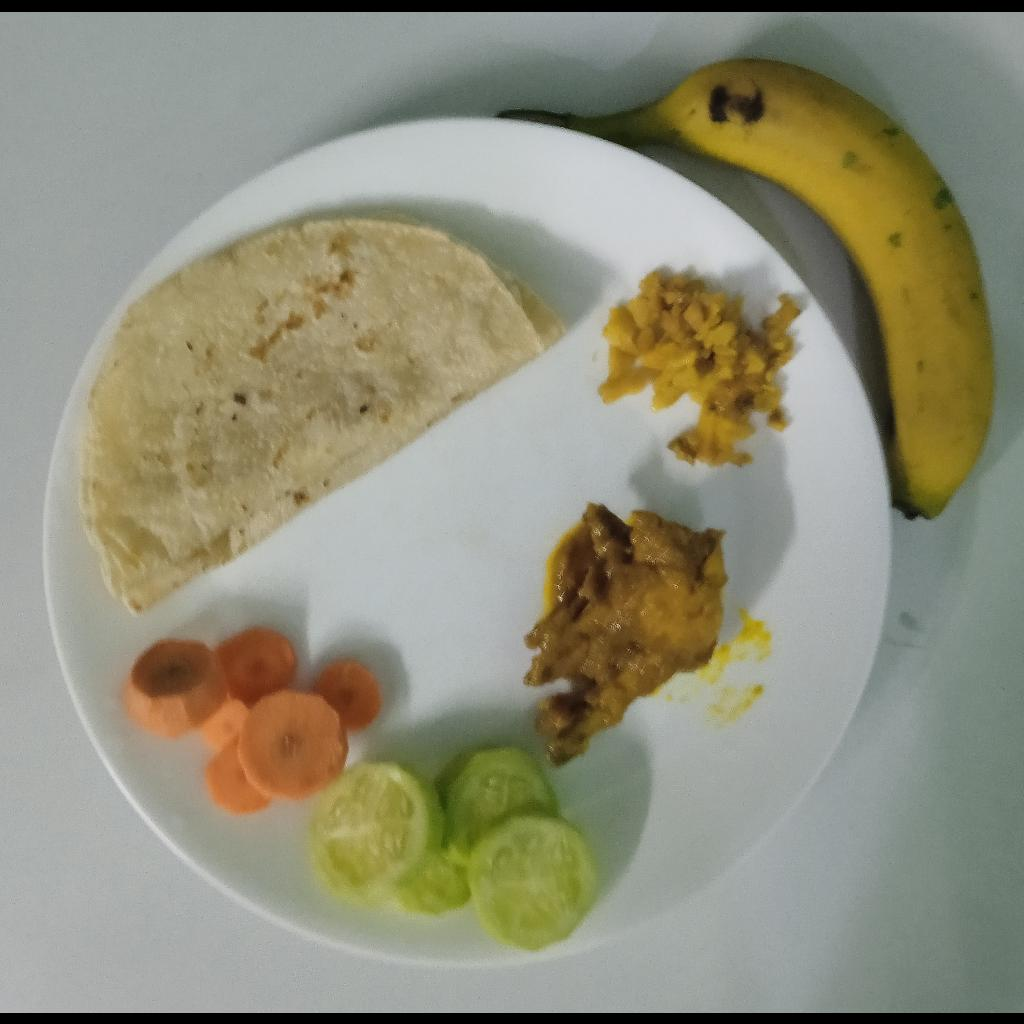banana: (495, 57, 996, 521)
carrot: (122, 627, 384, 813)
chicken: (521, 501, 728, 765)
cucumber: (310, 744, 599, 951)
kumra-vaji: (597, 270, 798, 466)
ruti: (80, 210, 569, 615)
